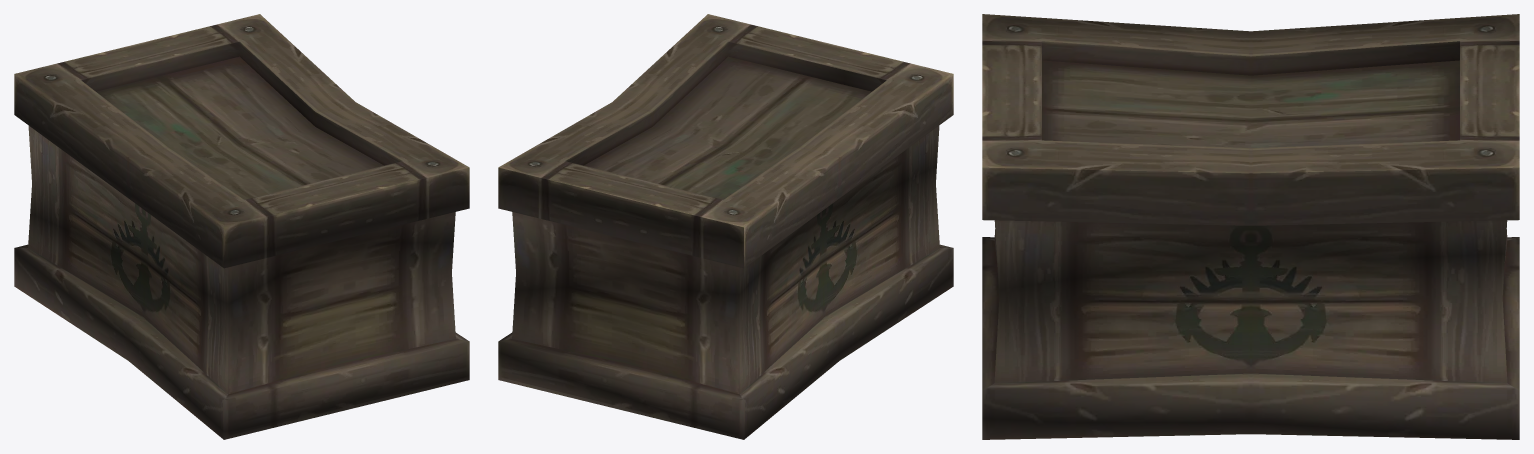
The picture shows the model from 3 angles, left to right: view 1: azimuth 30°, elevation 25°; view 2: azimuth 150°, elevation 25°; view 3: azimuth 270°, elevation 25°; orthographic projection. The views are drawn at different scales.
Bounding box in the file's own units: 1.35 × 1.11 × 1.99.
1 material, 1 textured.
